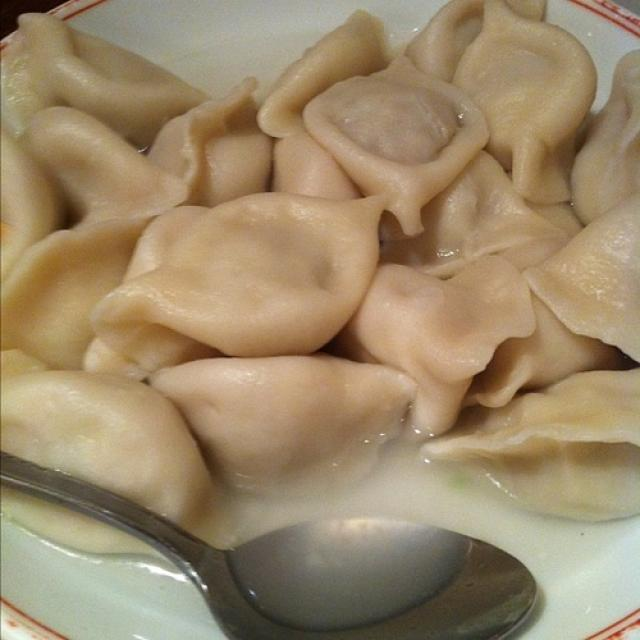带馅早点: (8, 8, 635, 549)
